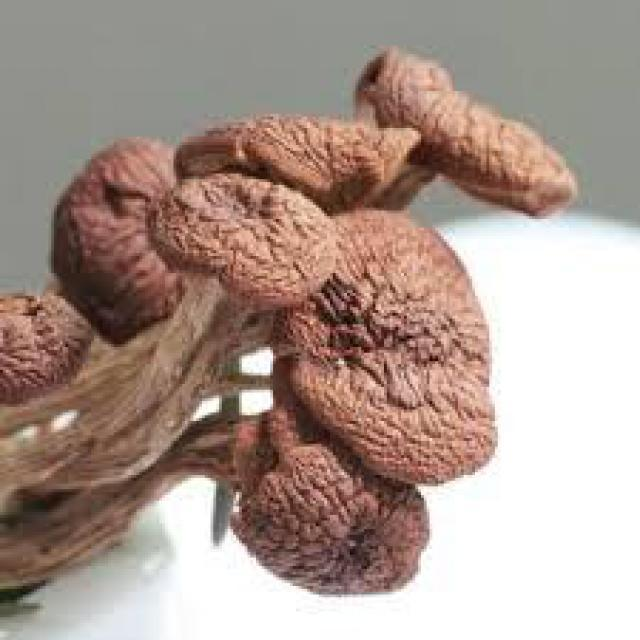Agrocybe aegerita: (0, 45, 571, 598)
